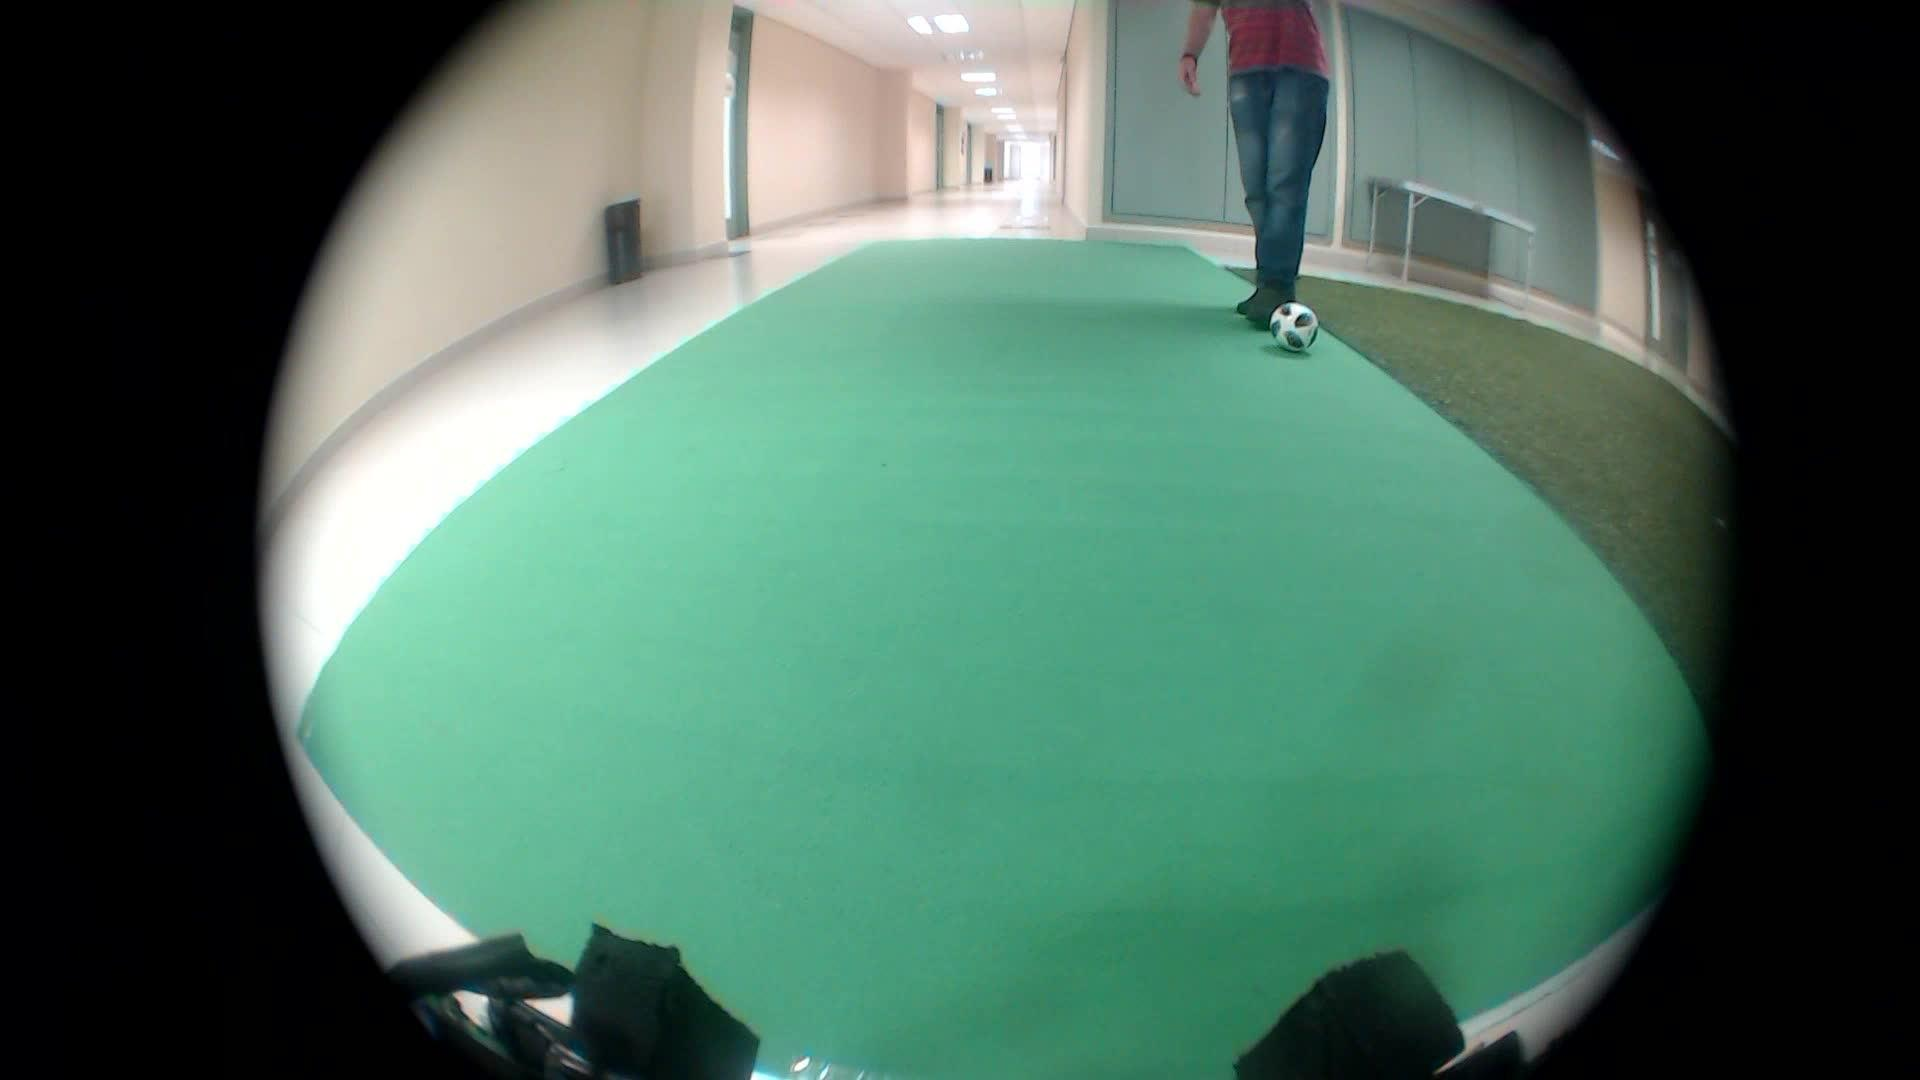ball: (1265, 303, 1325, 363)
